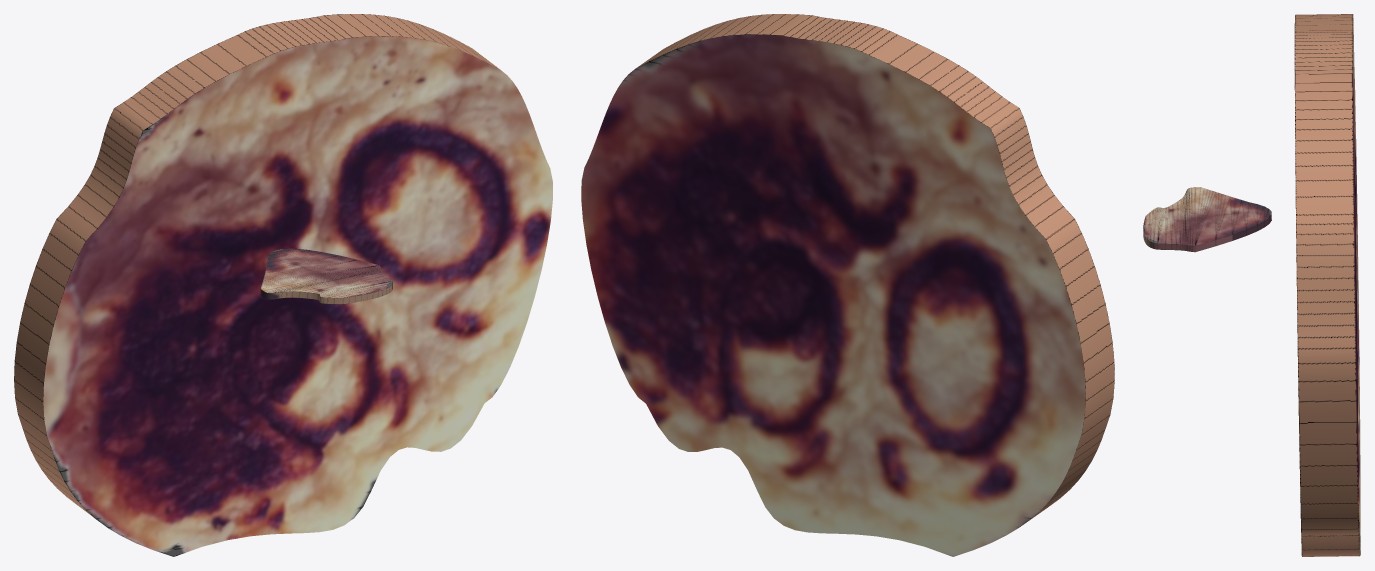
Rendered from mayhave-cookie.glb.
3 renders of one model, left to right at view 1: azimuth 30°, elevation 25°; view 2: azimuth 150°, elevation 25°; view 3: azimuth 270°, elevation 25°, orthographic.
Visible parts, largest first — view 1: body, mouth; view 2: body; view 3: body, mouth.
Boxes of the visible parts, left/top/right/bottom form: body: left=14, top=14, right=552, bottom=556; mouth: left=260, top=248, right=392, bottom=304; body: left=581, top=14, right=1114, bottom=556; body: left=1294, top=14, right=1360, bottom=556; mouth: left=1143, top=187, right=1271, bottom=252.
Bounding box in the file's own units: 3.41 × 3.18 × 1.28.
2 materials, 2 textured.
